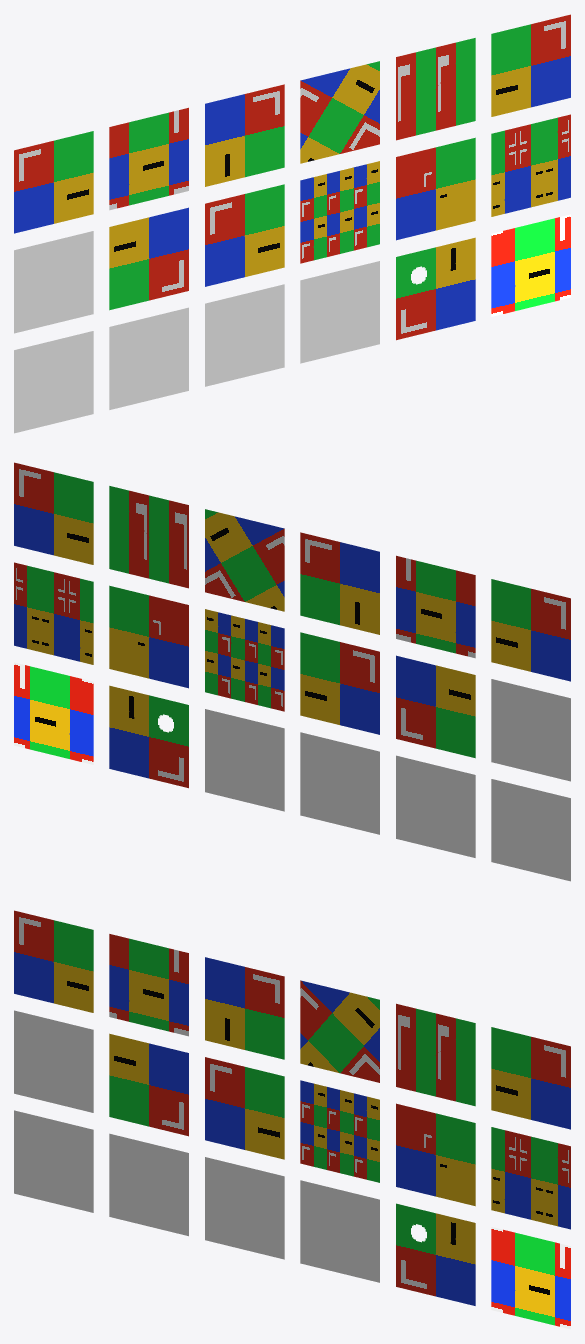
File: texture-mapping.gltf
The picture shows the model from 3 angles, top to bottom: view 1: azimuth 30°, elevation 25°; view 2: azimuth 150°, elevation 25°; view 3: azimuth 330°, elevation 25°; orthographic projection.
Visible parts, largest first — view 1: 00-identity, 02-rotate90, 05-negative, 06-zero, 08-override_uv0, 09-wrap_repeat, 11-wrap_mirror, 12-normal_authored, 15-normal_zero, 17-four_slots, 03-rotate37, 14-normal_negative (+6 smaller); view 2: 00-identity, 02-rotate90, 05-negative, 06-zero, 08-override_uv0, 09-wrap_repeat, 11-wrap_mirror, 12-normal_authored, 15-normal_zero, 17-four_slots, 03-rotate37, 14-normal_negative (+6 smaller); view 3: 00-identity, 03-rotate37, 05-negative, 06-zero, 08-override_uv0, 09-wrap_repeat, 11-wrap_mirror, 12-normal_authored, 14-normal_negative, 17-four_slots, 02-rotate90, 15-normal_zero (+6 smaller).
Boxes of the visible parts, x1,y1,x2,y2 form: 00-identity: (14, 131, 93, 233); 02-rotate90: (205, 84, 284, 186); 05-negative: (491, 14, 570, 116); 06-zero: (14, 231, 93, 333); 08-override_uv0: (205, 184, 284, 286); 09-wrap_repeat: (300, 161, 379, 263); 11-wrap_mirror: (491, 114, 570, 216); 12-normal_authored: (14, 331, 93, 433); 15-normal_zero: (300, 261, 379, 363); 17-four_slots: (491, 214, 570, 316); 03-rotate37: (300, 61, 379, 163); 14-normal_negative: (205, 284, 284, 386); 00-identity: (491, 579, 570, 681); 02-rotate90: (300, 532, 379, 634); 05-negative: (14, 462, 93, 564); 06-zero: (491, 679, 570, 781); 08-override_uv0: (300, 632, 379, 734); 09-wrap_repeat: (205, 609, 284, 711); 11-wrap_mirror: (14, 562, 93, 664); 12-normal_authored: (491, 779, 570, 881); 15-normal_zero: (205, 709, 284, 811); 17-four_slots: (14, 662, 93, 764); 03-rotate37: (205, 509, 284, 611); 14-normal_negative: (300, 732, 379, 834); 00-identity: (14, 910, 93, 1012); 03-rotate37: (300, 980, 379, 1082); 05-negative: (491, 1027, 570, 1129); 06-zero: (14, 1010, 93, 1112); 08-override_uv0: (205, 1057, 284, 1159); 09-wrap_repeat: (300, 1080, 379, 1182); 11-wrap_mirror: (491, 1127, 570, 1229); 12-normal_authored: (14, 1110, 93, 1212); 14-normal_negative: (205, 1157, 284, 1259); 17-four_slots: (491, 1227, 570, 1329); 02-rotate90: (205, 957, 284, 1059); 15-normal_zero: (300, 1180, 379, 1282).
Bounding box in the file's own units: 14 × 6.8 × 0.
18 materials, 14 textured.
